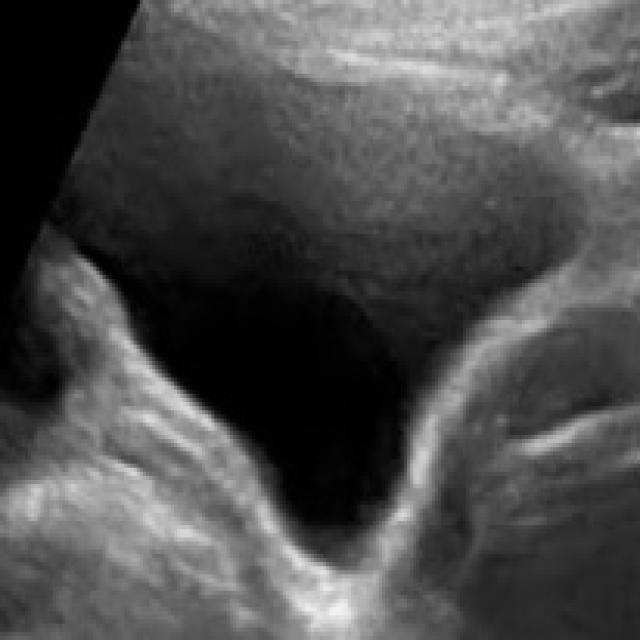bladder: (42, 4, 603, 608)
